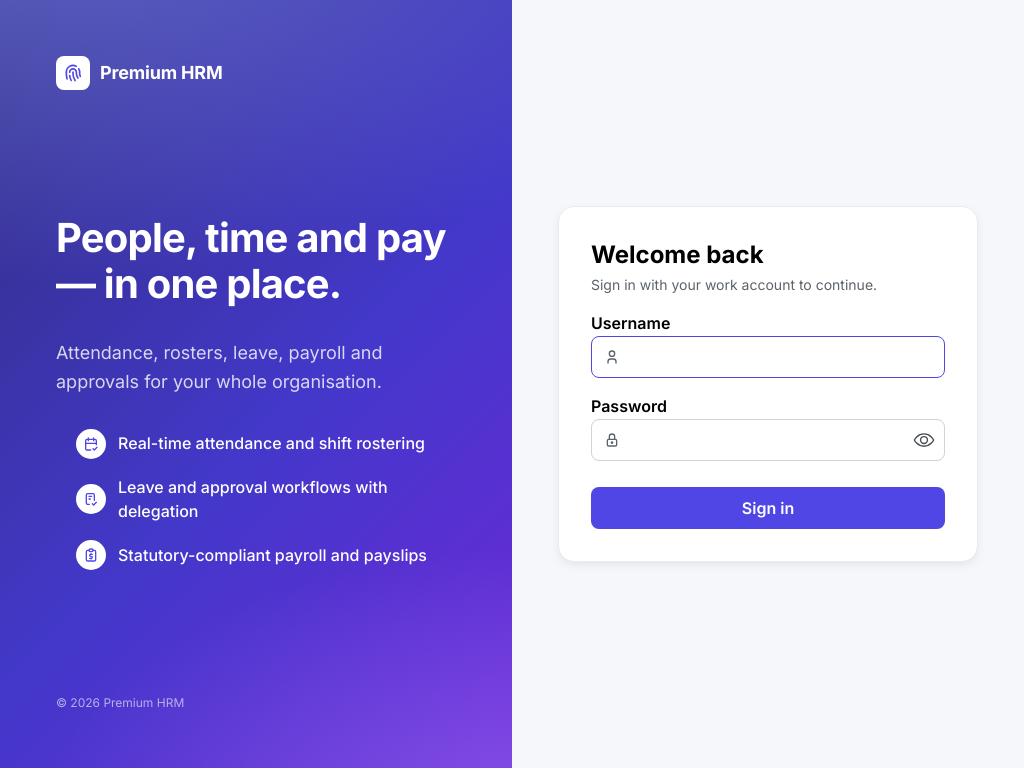
LoginPage › FR-001 shows the server message for invalid credentials
Type "bob" into the field labelled "Username". click: [768, 357]
box: [591, 336, 945, 378]
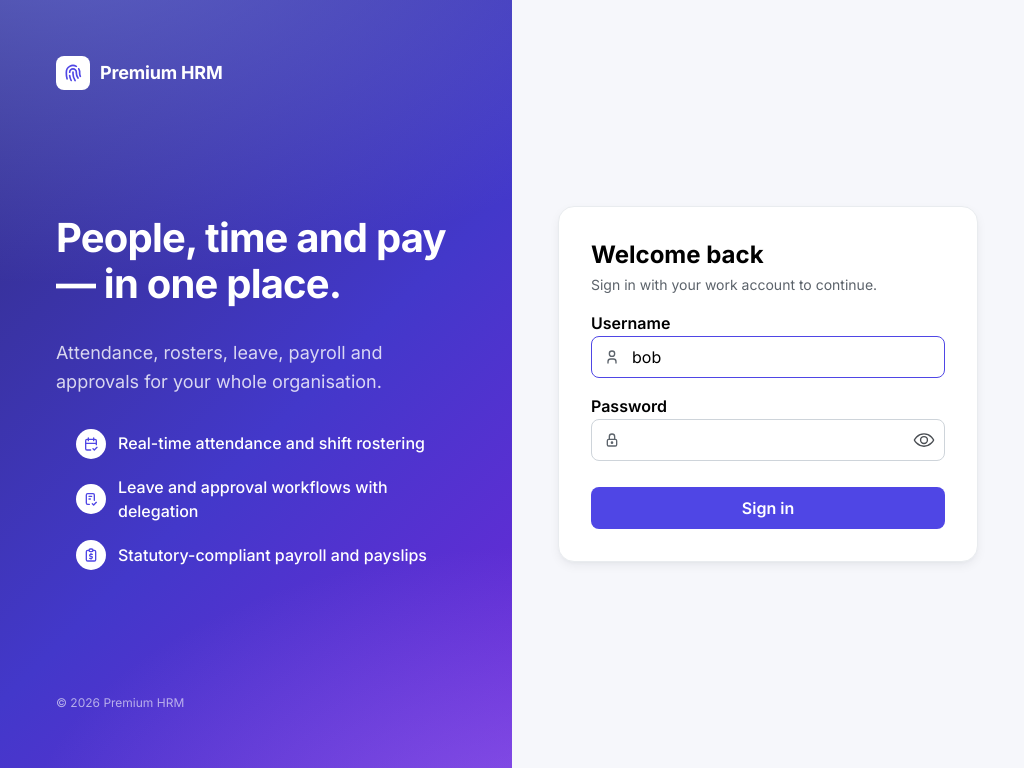
Type "nope" into the password field labelled "Password". click: [768, 440]
box: [592, 420, 944, 460]
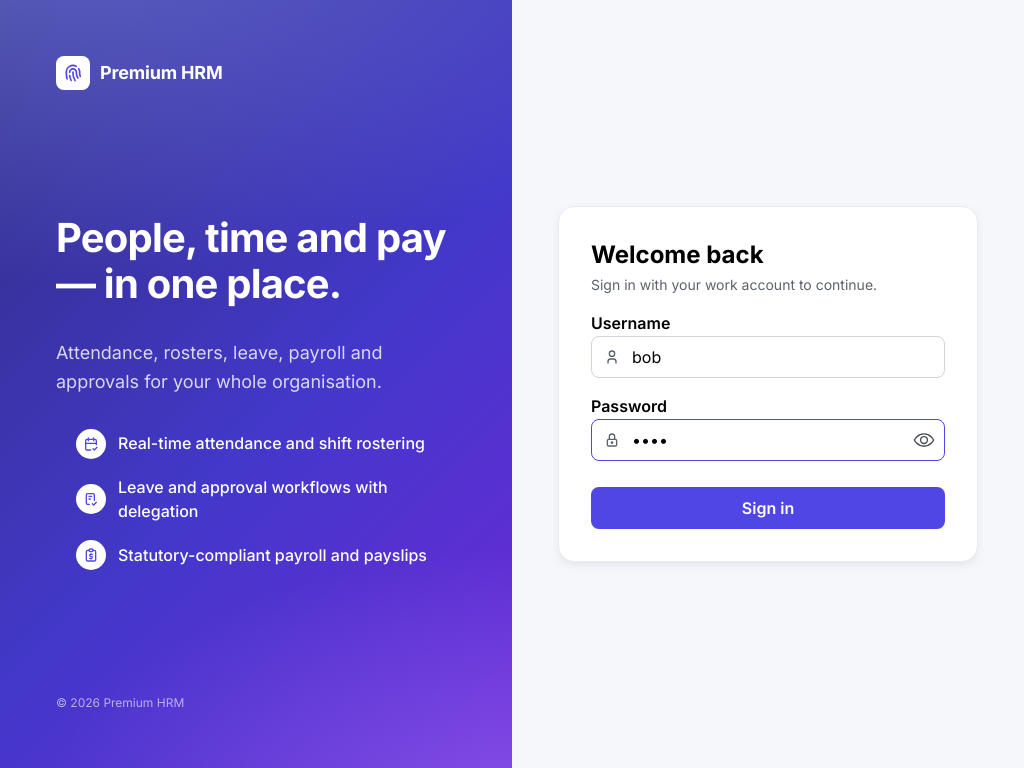
Click the button "Sign in". click: [768, 508]
box: [591, 486, 945, 528]
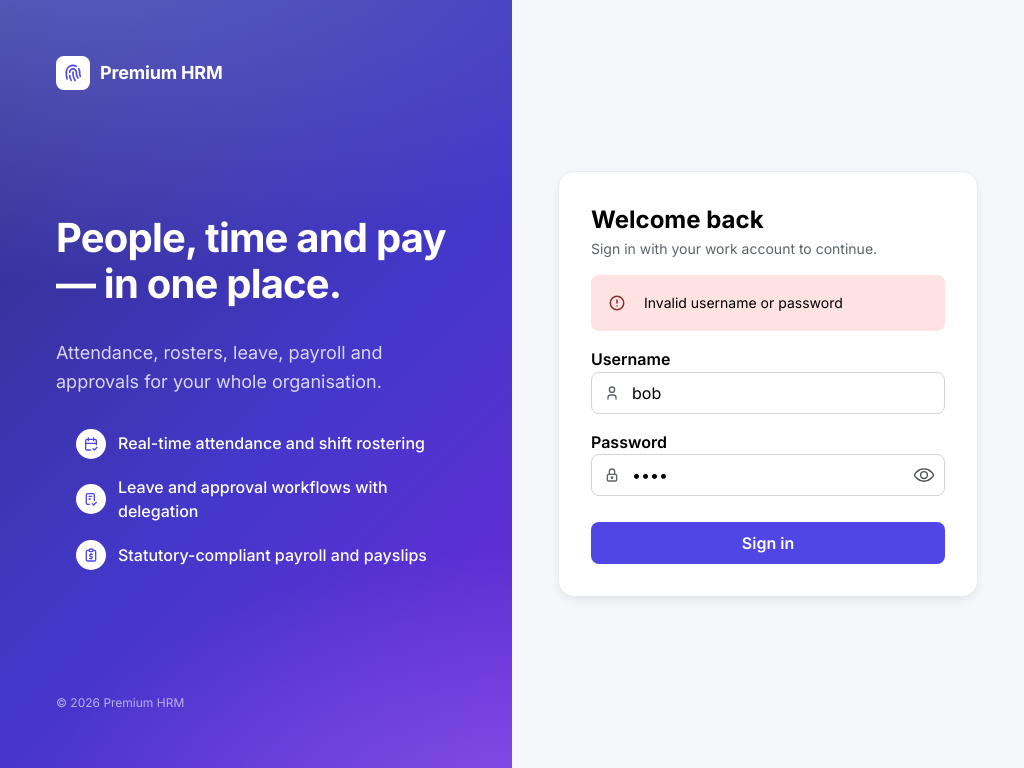
expect the message reads "Invalid username or password": met, box [644, 294, 843, 311]
